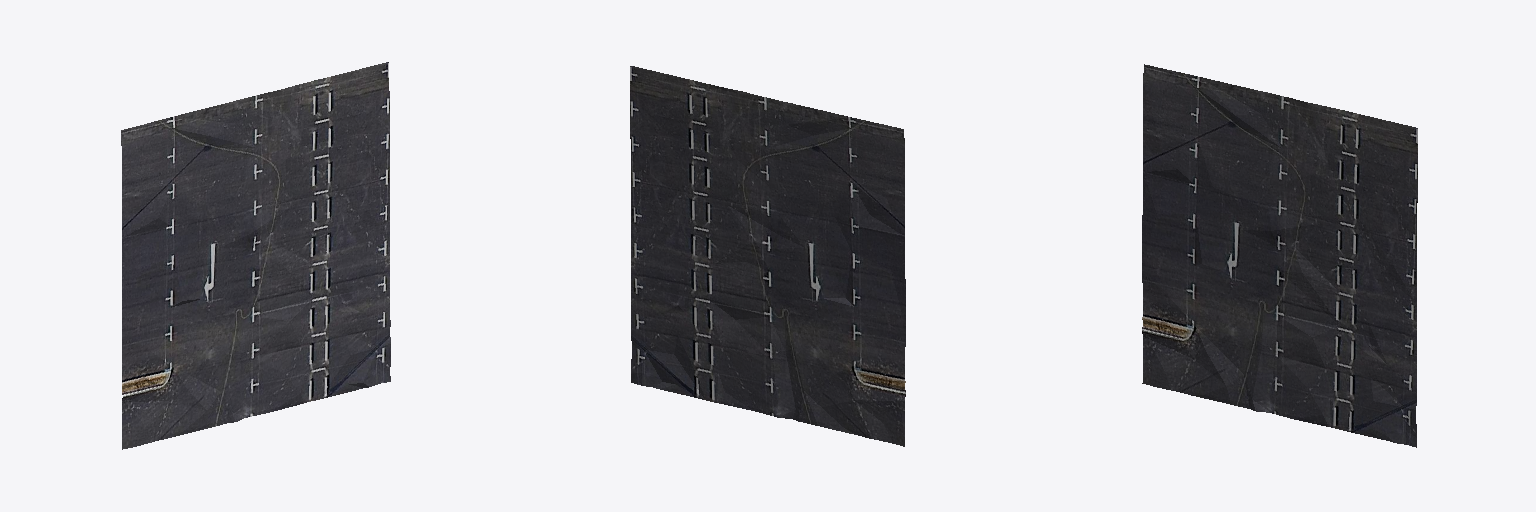
3 renders of one model, left to right at view 1: azimuth 30°, elevation 25°; view 2: azimuth 150°, elevation 25°; view 3: azimuth 330°, elevation 25°, orthographic.
Visible parts, largest first — view 1: obj_0; view 2: obj_0; view 3: obj_0.
Boxes of the visible parts, x1=… form: obj_0: x1=121, y1=62, x2=390, y2=449; obj_0: x1=630, y1=66, x2=905, y2=446; obj_0: x1=1142, y1=64, x2=1417, y2=447.
Bounding box in the file's own units: 20.08 × 22.53 × 0.6356.
1 materials, 1 textured.